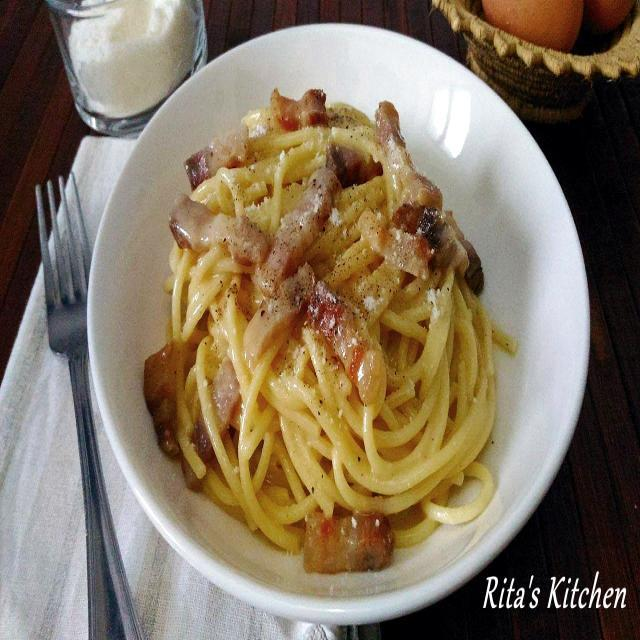Pasta with carbonara sauce: (143, 77, 535, 599)
